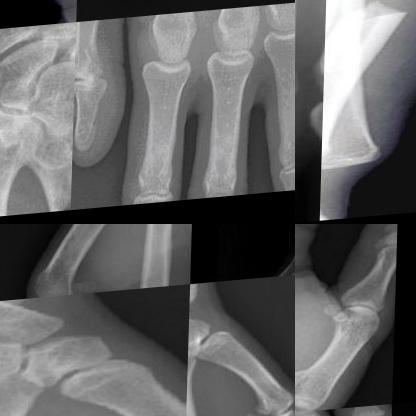fracture: (295, 358, 314, 411)
